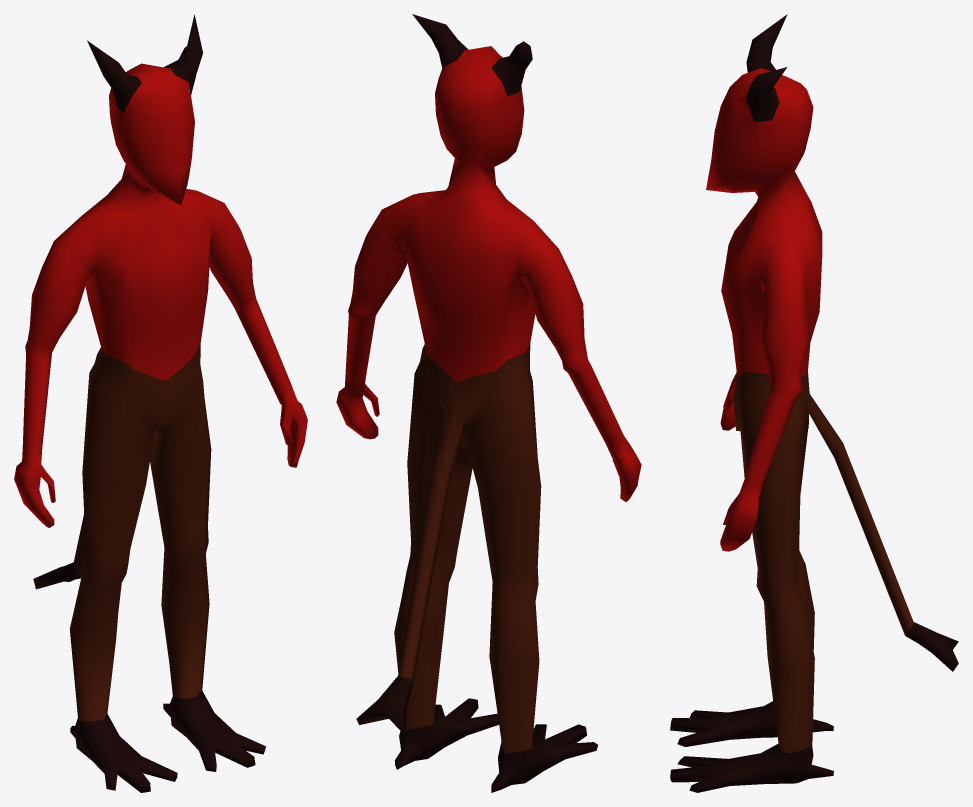
Rendered from diaulo.fbx.
3 renders of one model, left to right at view 1: azimuth 30°, elevation 25°; view 2: azimuth 150°, elevation 25°; view 3: azimuth 270°, elevation 25°, orthographic. The views are drawn at different scales.
Parts seen in each view (by area): view 1: Cube; view 2: Cube; view 3: Cube.
Boxes of the visible parts, x1,y1,x2,y2 form: Cube: (14, 14, 307, 792); Cube: (336, 14, 641, 792); Cube: (670, 14, 958, 792).
Size of the model in its own units: 212 by 507 by 186.
